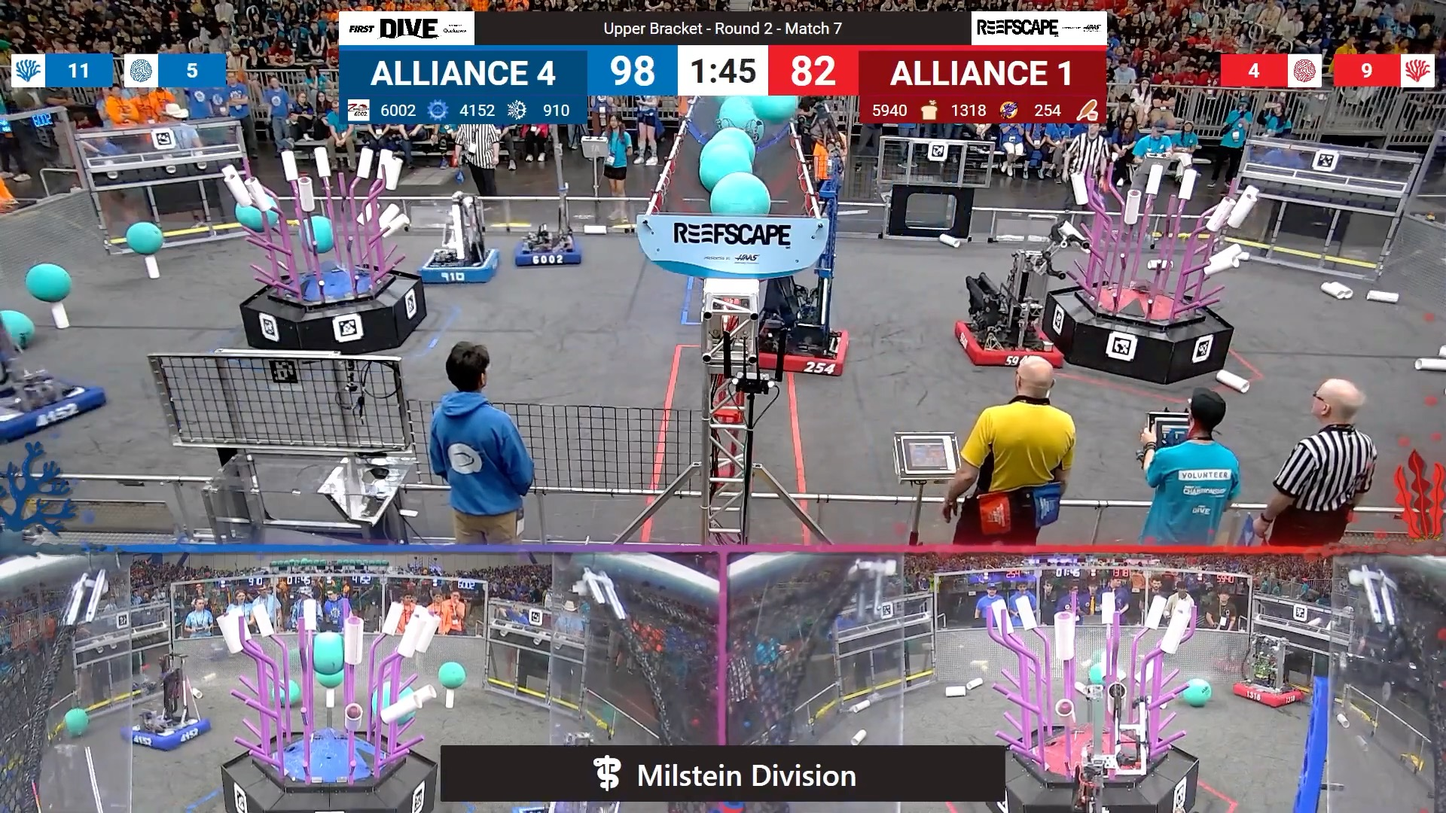bumpers: (0, 369, 114, 444), (954, 314, 1073, 373), (761, 324, 856, 379), (116, 709, 216, 755), (412, 247, 503, 289), (1225, 674, 1315, 709), (512, 238, 592, 271)
